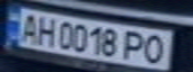0: (69, 21, 90, 53), (54, 19, 75, 51)
1: (84, 25, 106, 56)
8: (100, 26, 124, 59)
A: (15, 11, 42, 43)
H: (33, 15, 60, 47)
O: (139, 33, 172, 65)
P: (121, 29, 148, 62)
